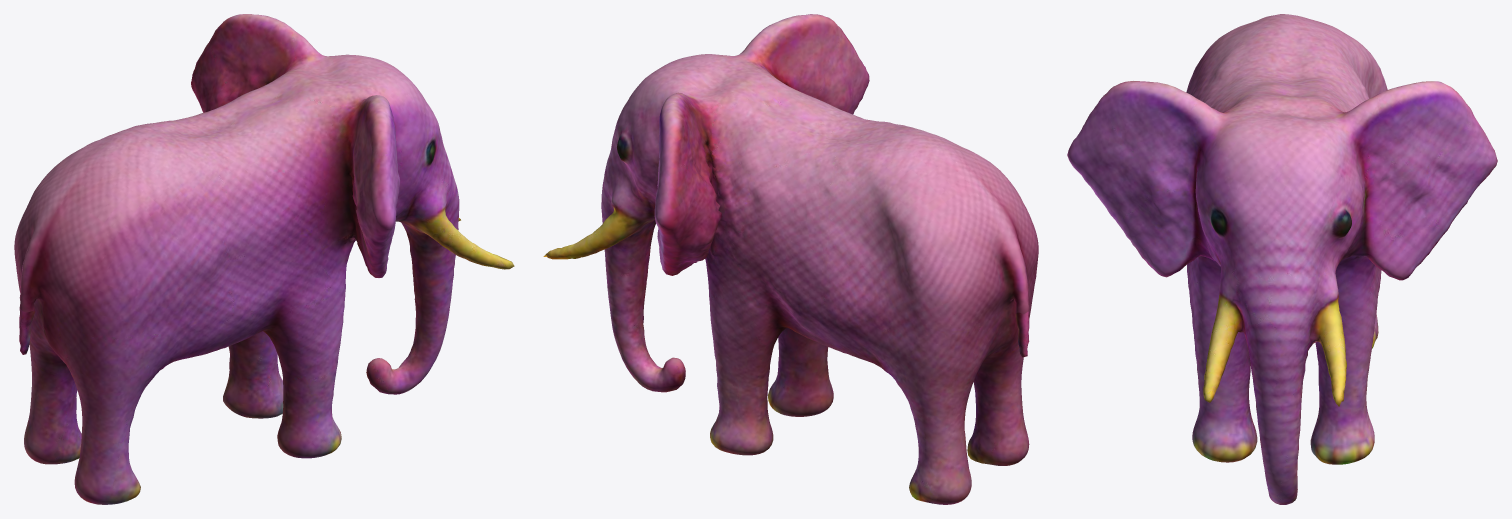
Rendered from elefant.glb.
3 views of the same model, side by side, from view 1: azimuth 30°, elevation 25°; view 2: azimuth 150°, elevation 25°; view 3: azimuth 270°, elevation 25° (orthographic). The views are drawn at different scales.
Visible parts, largest first — view 1: Mesh1; view 2: Mesh1; view 3: Mesh1.
Part boxes in pixels (x1,y1,x2,y2): Mesh1: (14,14,514,504); Mesh1: (543,14,1038,504); Mesh1: (1067,14,1497,504).
Size of the model in its own units: 1.2 by 0.8961 by 0.8939.
Materials: 1 (1 with a texture image).
